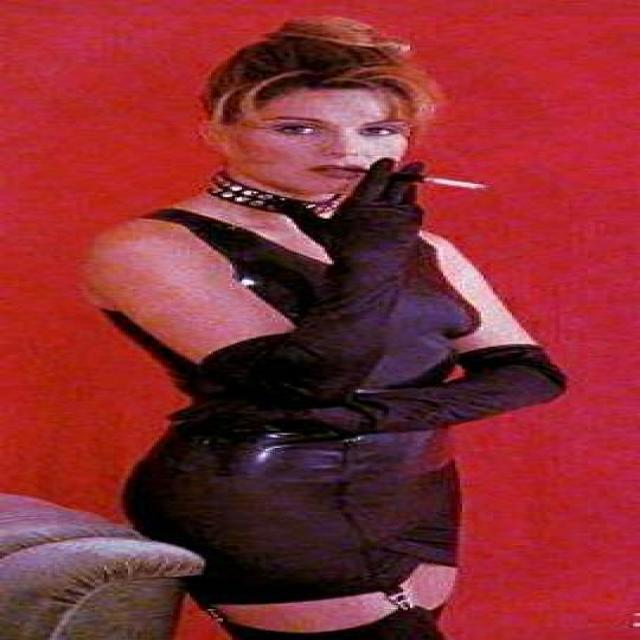Сигарета: (416, 176, 492, 190)
Тело: (111, 18, 552, 640)
